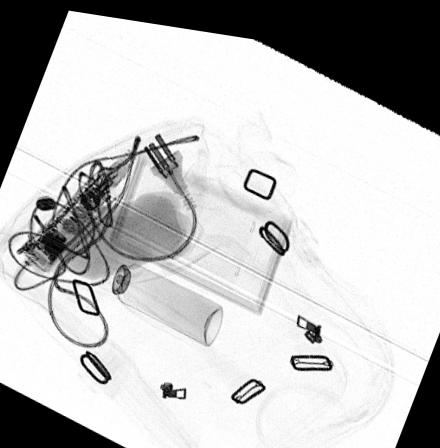Sprayer: (97, 254, 224, 339)
